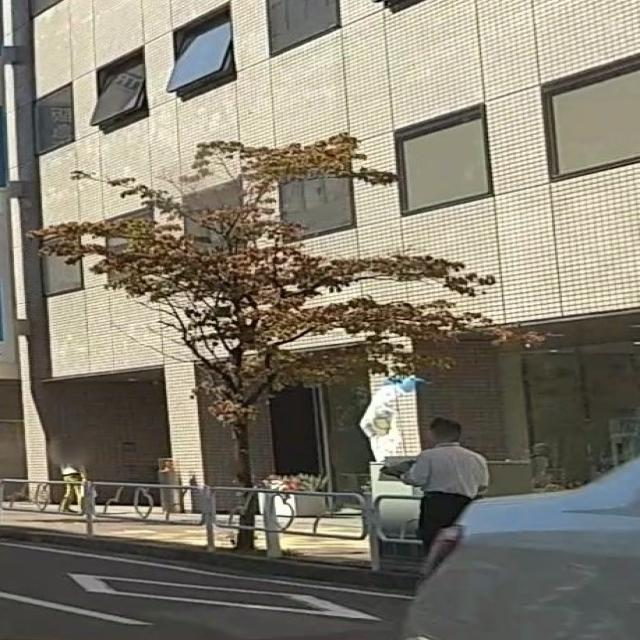dogwood: (25, 132, 566, 554)
